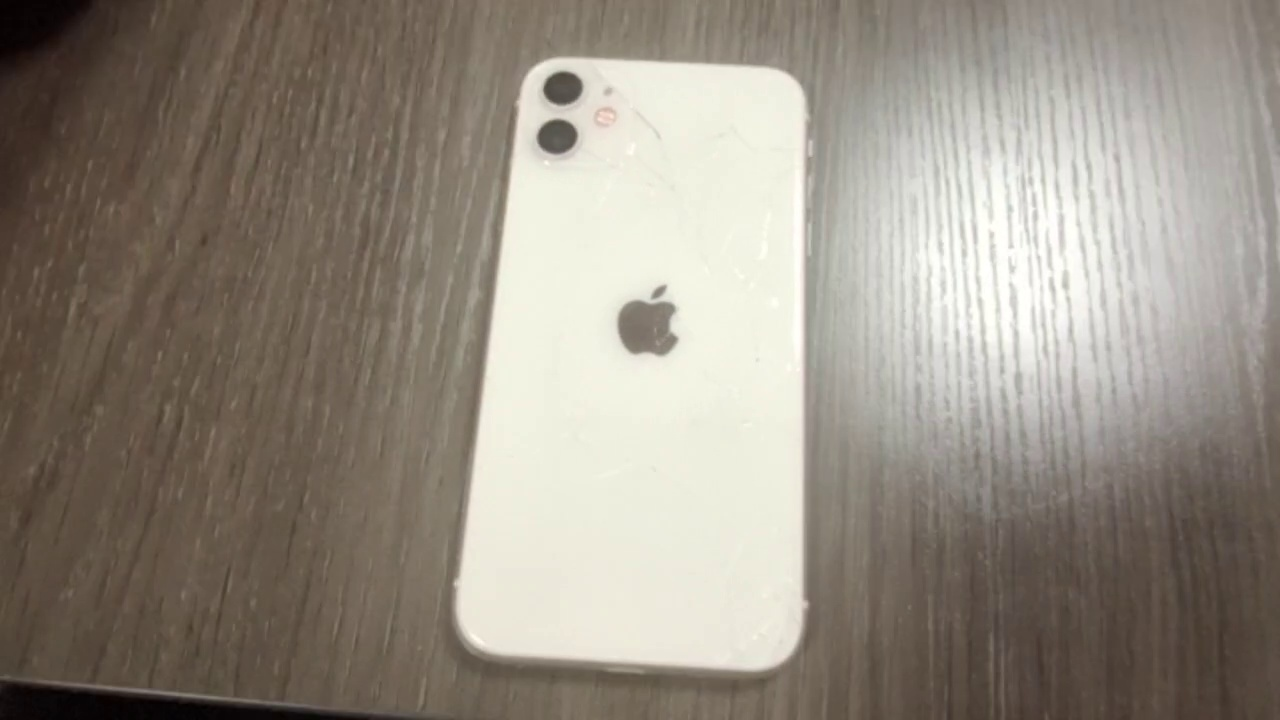celular: (453, 54, 813, 682)
